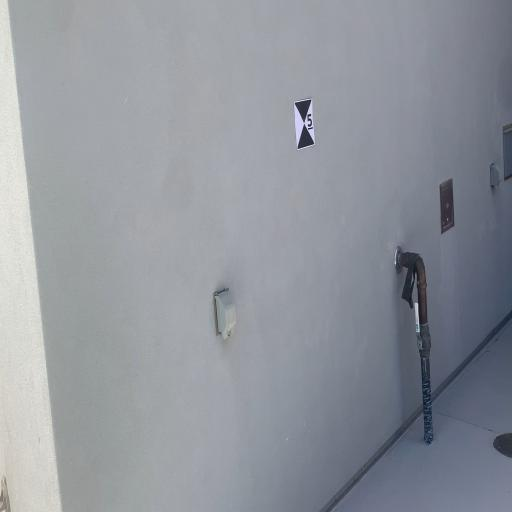target5: (293, 98, 315, 150)
